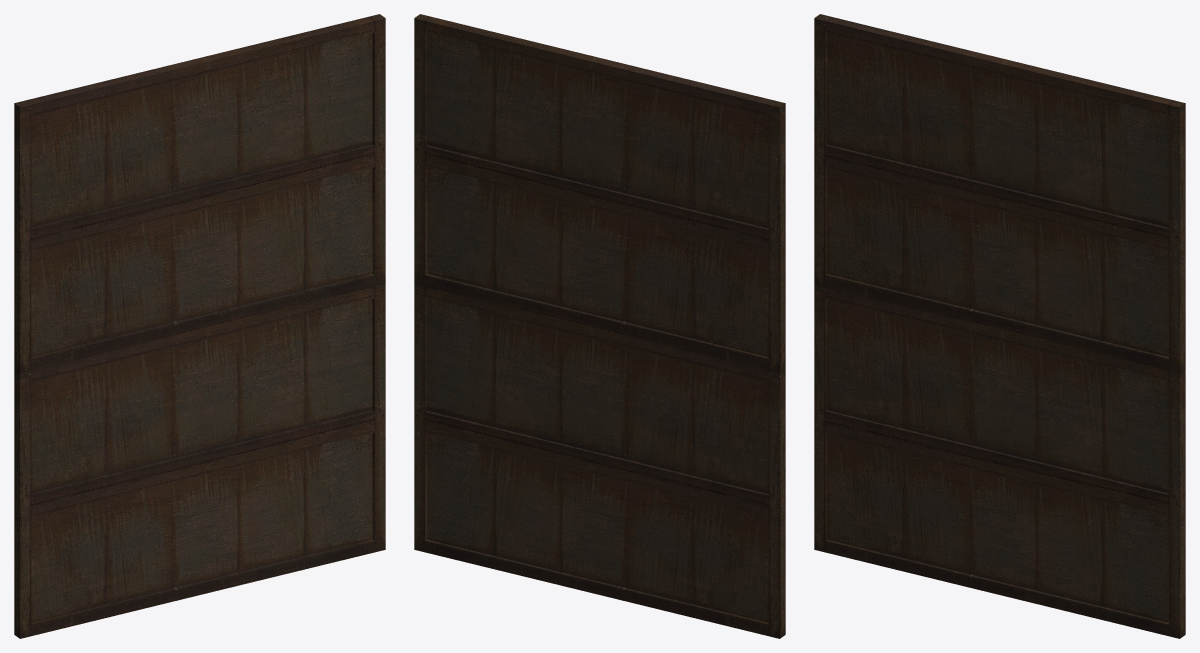
File: metal_fence_hr_1_tall.glb
3 views of the same model, side by side, from view 1: azimuth 30°, elevation 25°; view 2: azimuth 150°, elevation 25°; view 3: azimuth 330°, elevation 25° (orthographic).
Visible parts, largest first — view 1: metal_fence_hr_1_tall; view 2: metal_fence_hr_1_tall; view 3: metal_fence_hr_1_tall.
Part boxes in pixels (left/top/right/bottom): metal_fence_hr_1_tall: left=14, top=14, right=385, bottom=638; metal_fence_hr_1_tall: left=414, top=14, right=785, bottom=638; metal_fence_hr_1_tall: left=814, top=14, right=1185, bottom=638.
Size of the model in its own units: 3.6 by 5 by 0.1.
1 material, 1 textured.
